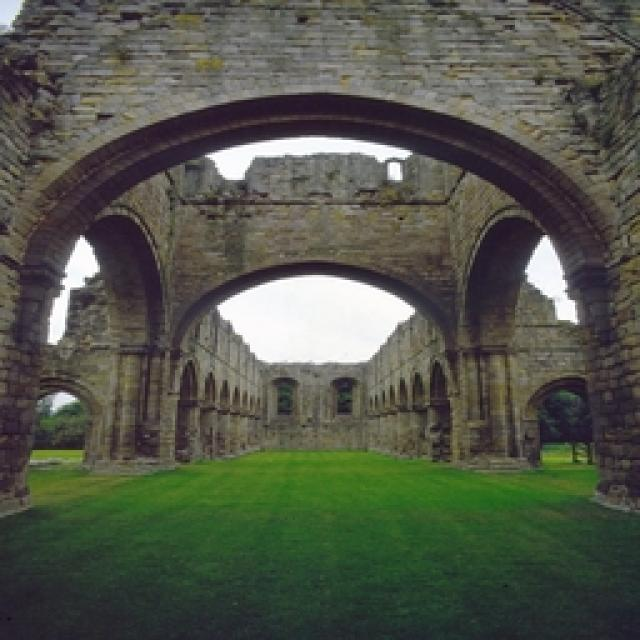Abbey: (29, 137, 616, 515)
